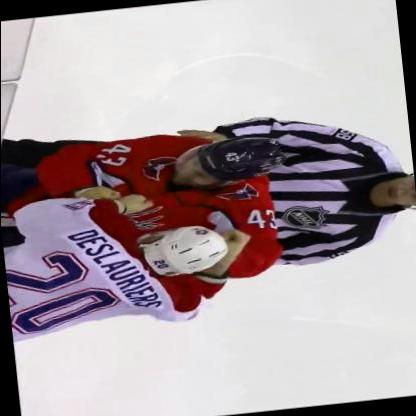voilence: (1, 116, 301, 344)
